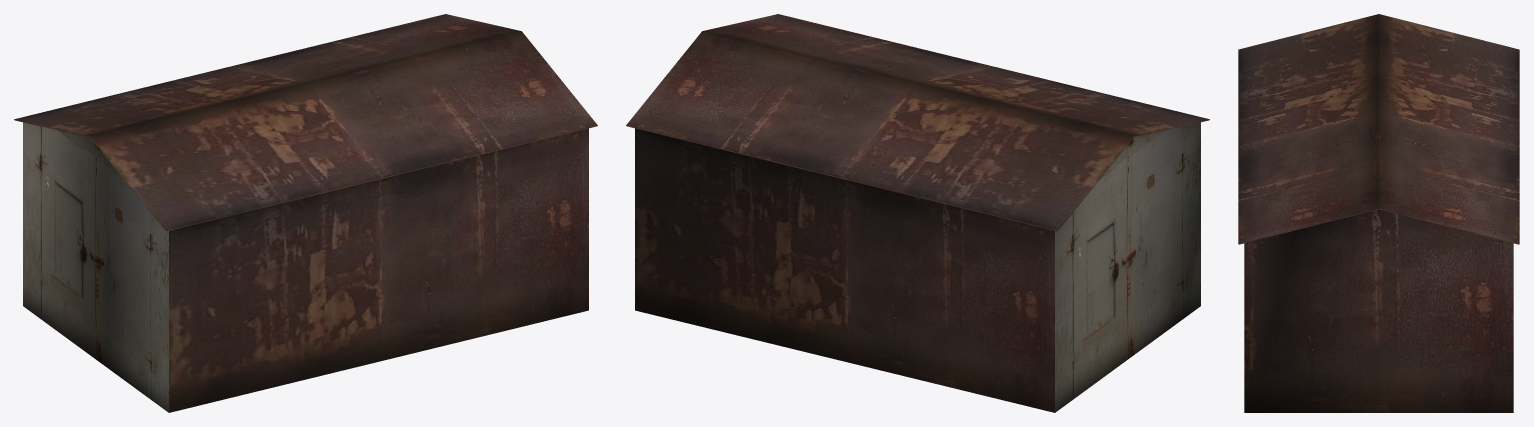
The model's file is old_metal_shed.glb.
3 renders of one model, left to right at view 1: azimuth 30°, elevation 25°; view 2: azimuth 150°, elevation 25°; view 3: azimuth 270°, elevation 25°, orthographic. The views are drawn at different scales.
Visible parts, largest first — view 1: Object_2; view 2: Object_2; view 3: Object_2.
Boxes of the visible parts, left/top/right/bottom form: Object_2: left=14, top=14, right=597, bottom=412; Object_2: left=626, top=14, right=1209, bottom=412; Object_2: left=1238, top=14, right=1519, bottom=412.
Size of the model in its own units: 4.75 by 2.36 by 2.9.
1 material, 1 textured.
